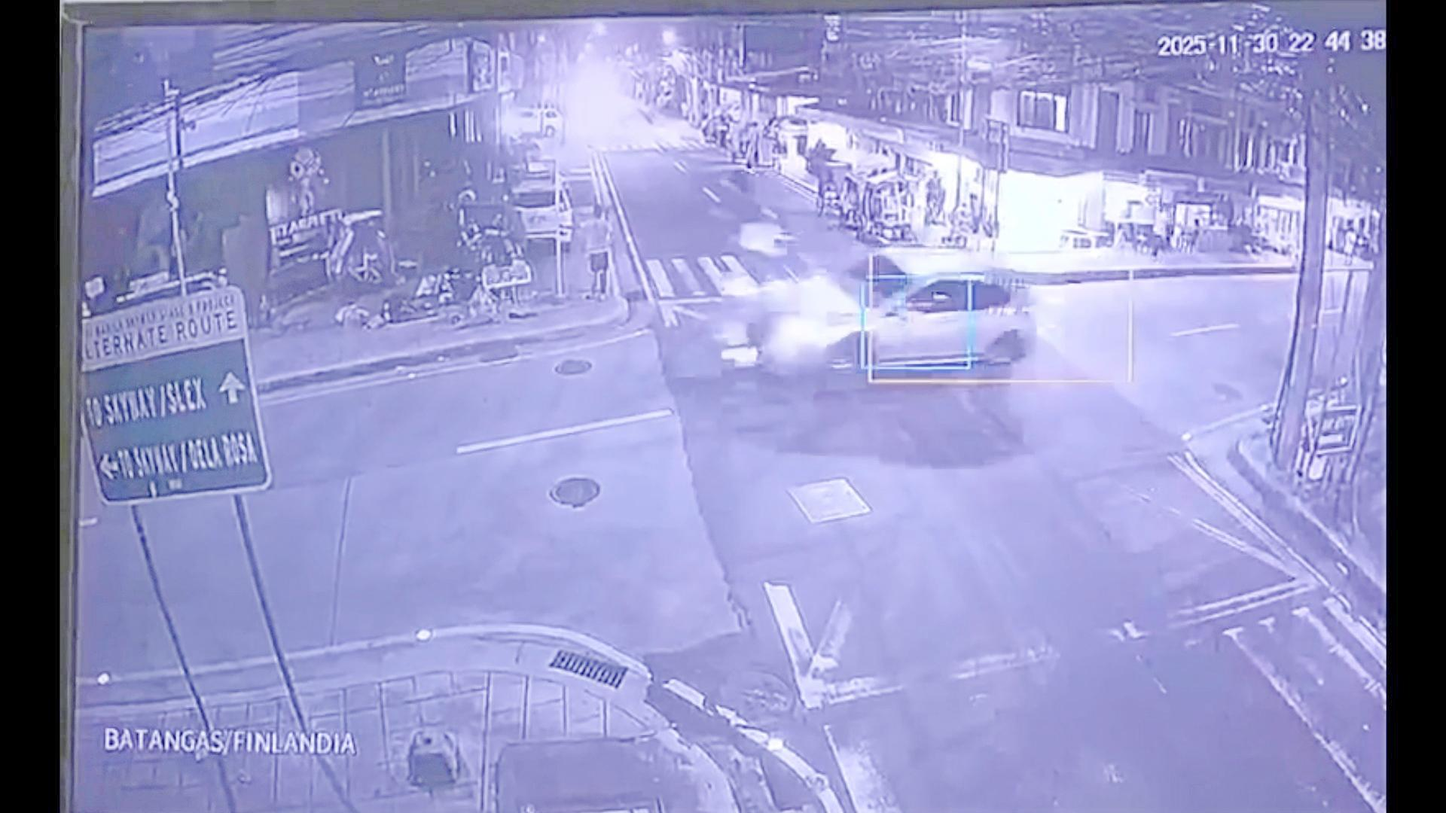Car: (753, 256, 1026, 383)
Major Accident: (703, 244, 1033, 395)
Motor: (694, 283, 779, 388)
